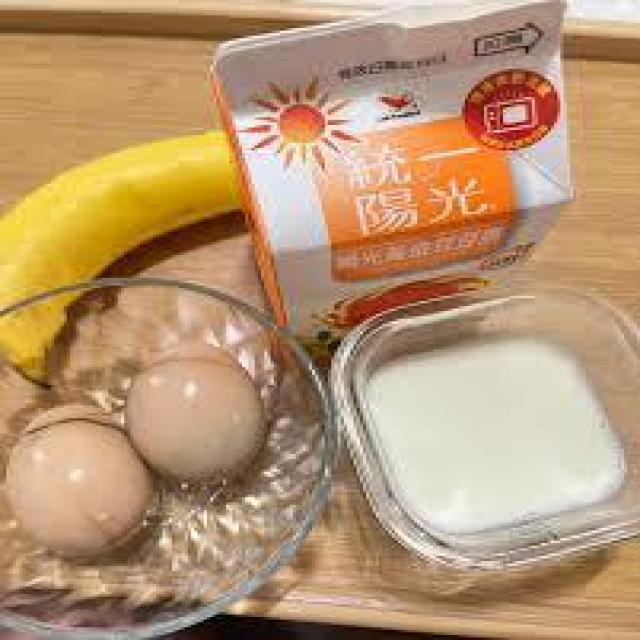TongYi_SoyMilk: (206, 32, 565, 309)
